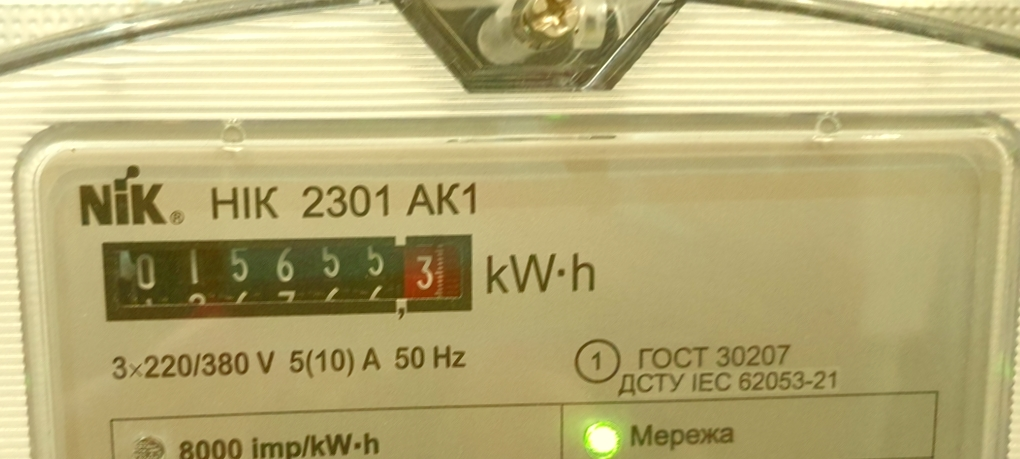0: (132, 248, 159, 289)
1: (184, 245, 204, 285)
3: (414, 252, 435, 288)
5: (226, 245, 251, 281), (319, 244, 343, 277), (366, 243, 386, 275)
6: (273, 245, 297, 281)
screen: (88, 213, 489, 336)
